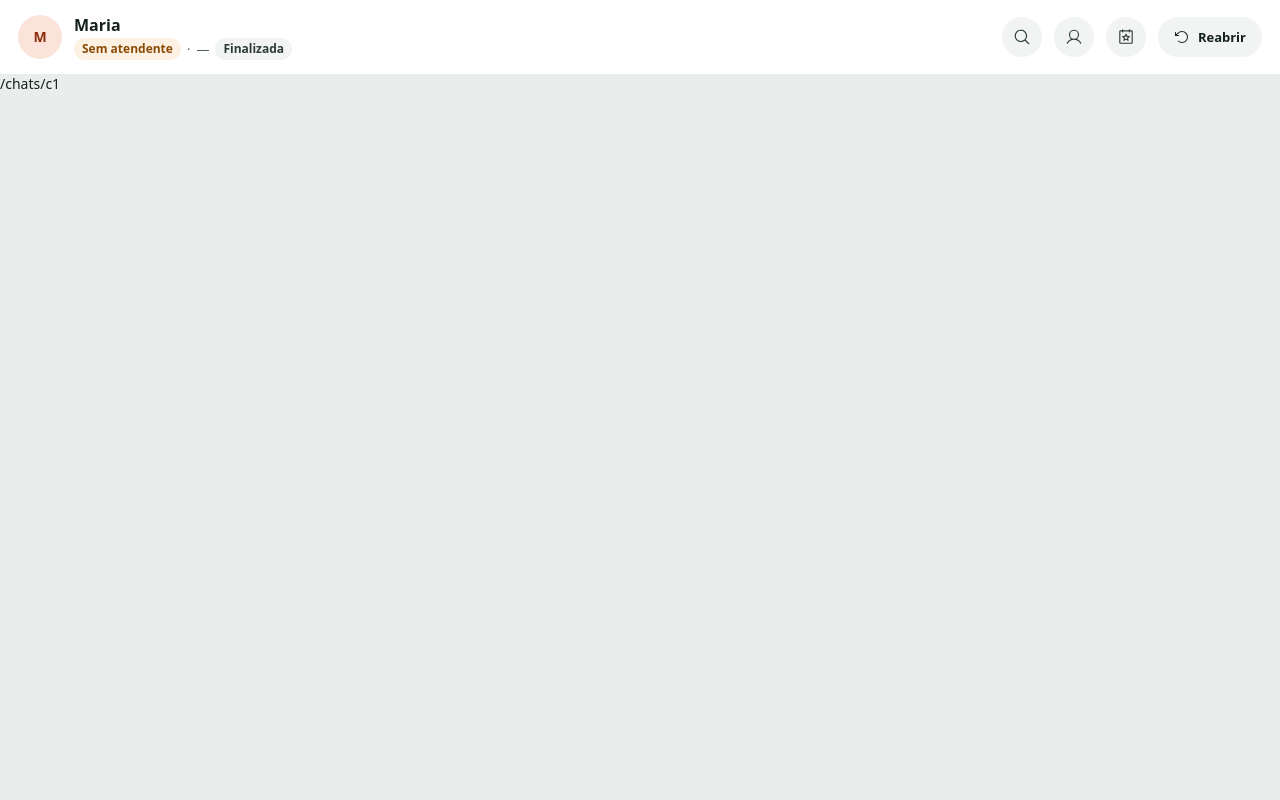
it: ConversationHeader appointments (spec 2026-10-21 compromissos §3.1) › "Compromissos" opens the contact’s appointments, also in a closed chat
Click the button named "Compromissos".
click(1126, 37)  # box [1106,17,1146,57]
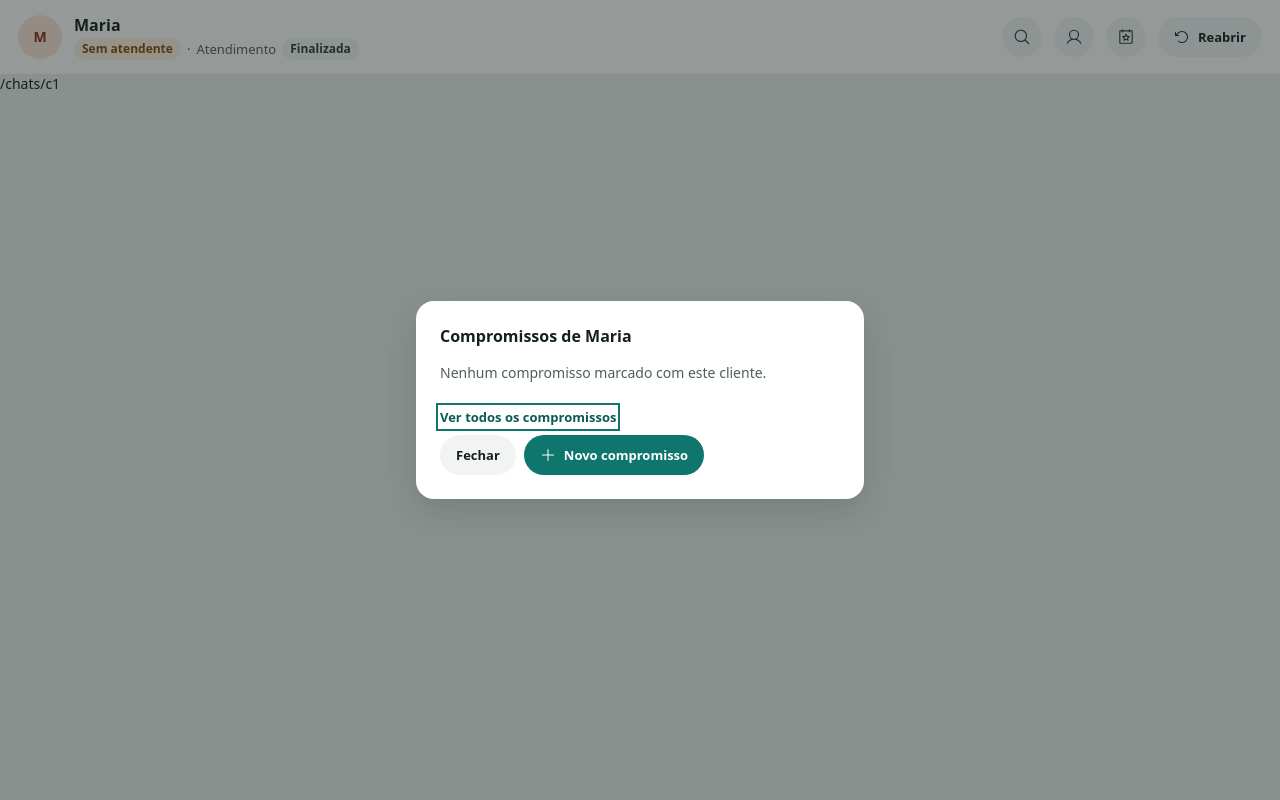
Result: the text "Nenhum compromisso marcado com este cliente." is shown at [440,363,766,382]
